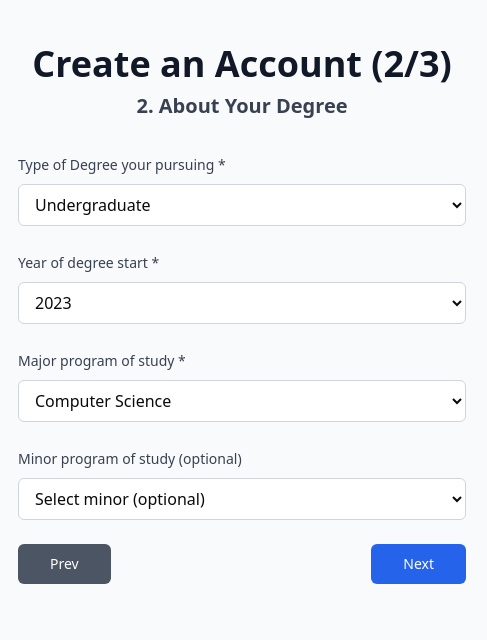
Test: CreateAccount2 › clears error when form data changes
Note: Create the error first
Select "Undergraduate" in the dropdown labelled "Type of Degree your pursuing *" at {"x": 242, "y": 205}, box [18,184,466,226]
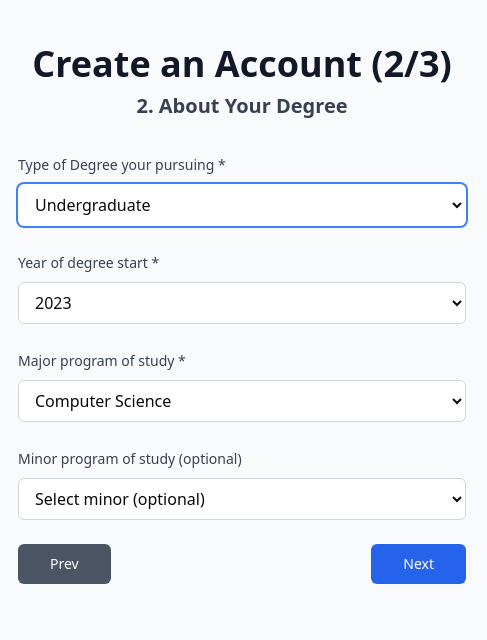
Select "2023" in the dropdown labelled "Year of degree start *" at {"x": 242, "y": 303}, box [18,282,466,324]
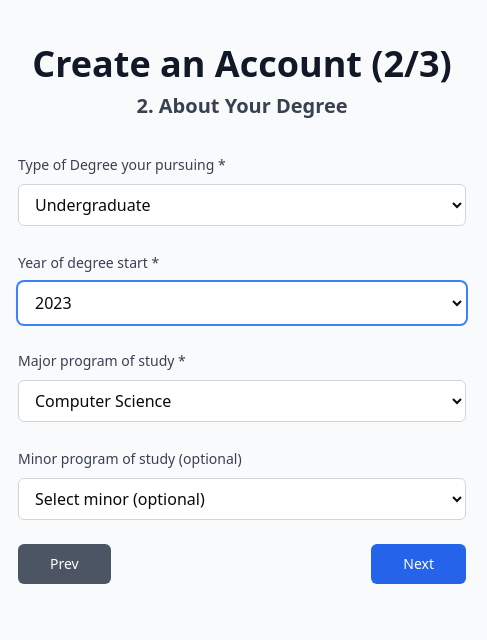
Select "Computer Science" in the dropdown labelled "Major program of study *" at {"x": 242, "y": 401}, box [18,380,466,422]
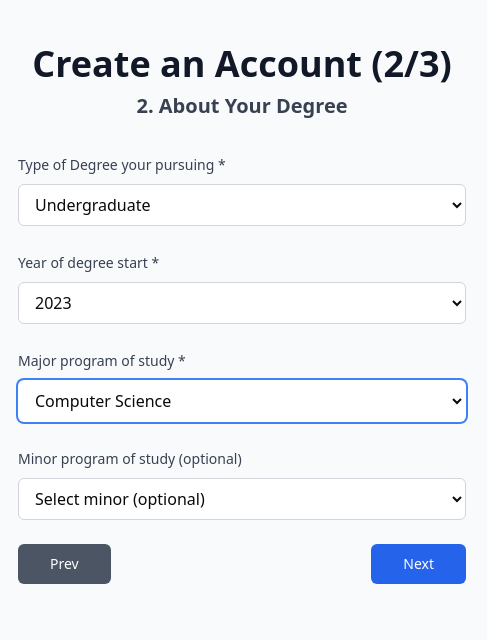
Select "Computer Science" in the dropdown labelled "Minor program of study (optional)" at {"x": 242, "y": 499}, box [18,478,466,520]
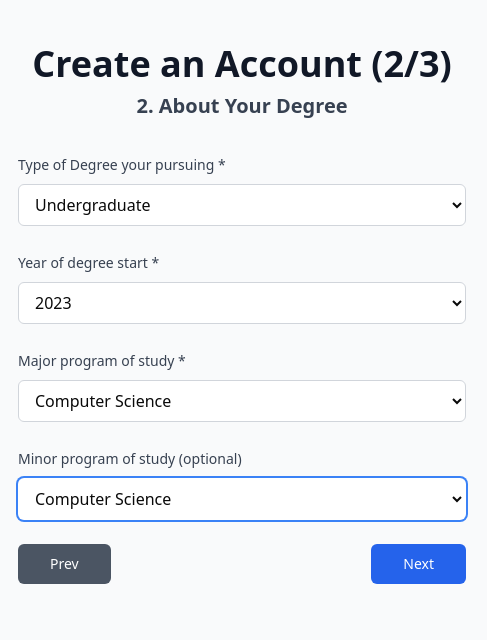
Click the button "Next".
click(419, 564)  # box [371,544,466,584]
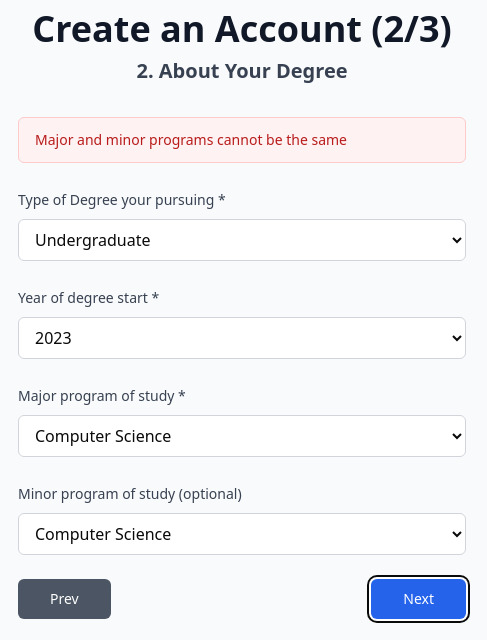
Expected: the text "Major and minor programs cannot be the same" is shown, [18,117,466,163]
Note: Change minor program to clear the error
Select "Mathematics" in the dropdown labelled "Minor program of study (optional)" at {"x": 242, "y": 534}, box [18,513,466,555]
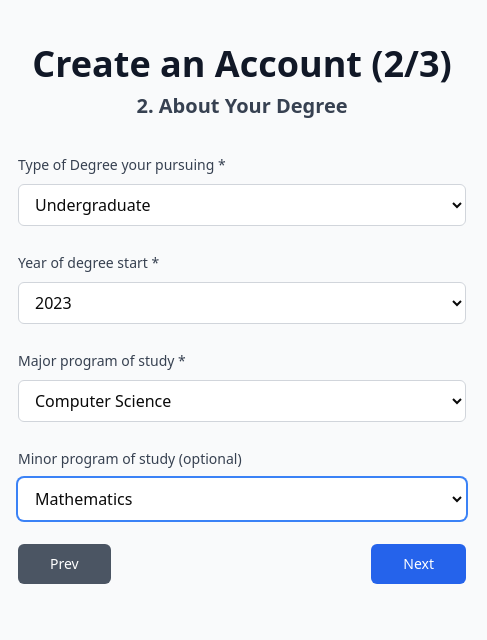
Expected: the text "Major and minor programs cannot be the same" is gone
